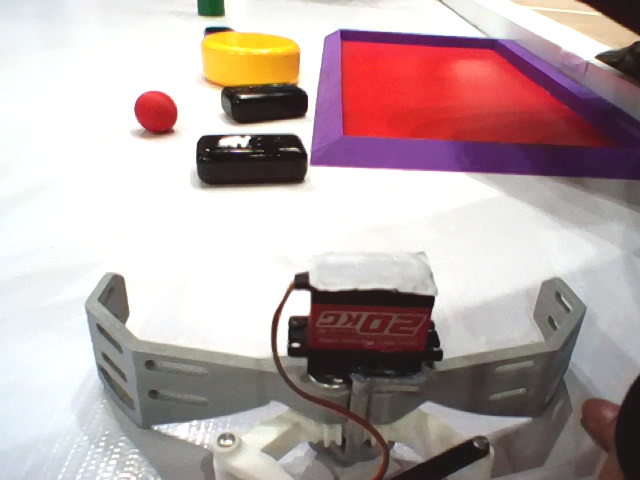black: (181, 132, 314, 185), (216, 82, 313, 121)
kuang: (308, 6, 640, 220)
red: (127, 85, 176, 142)
yellow: (189, 30, 308, 87)
zhuzi: (193, 1, 225, 15)
